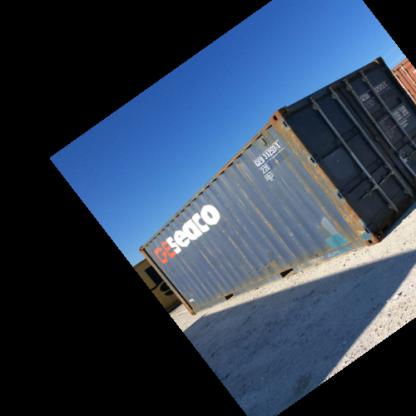Damage: (270, 118, 374, 256), (195, 233, 264, 286), (229, 167, 264, 226)
